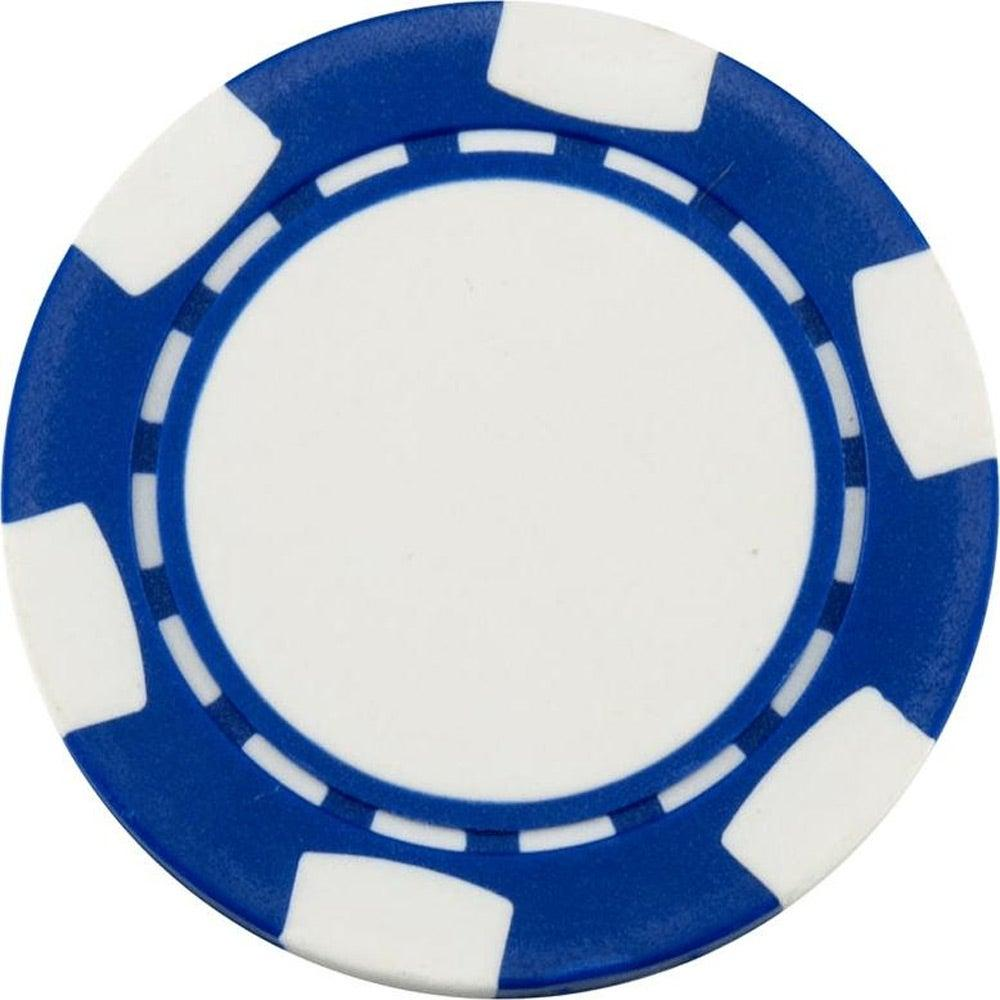chip-blue: (4, 4, 998, 997)
